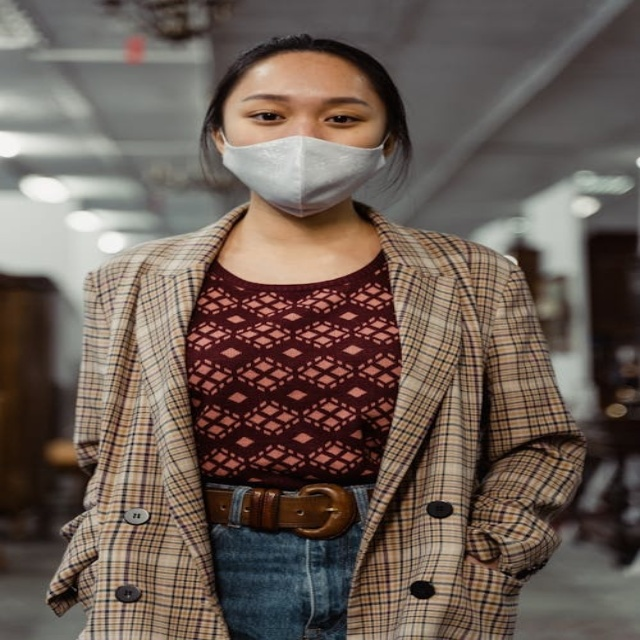Mascara: (217, 128, 390, 217)
Sin_gafas: (236, 88, 361, 127)
